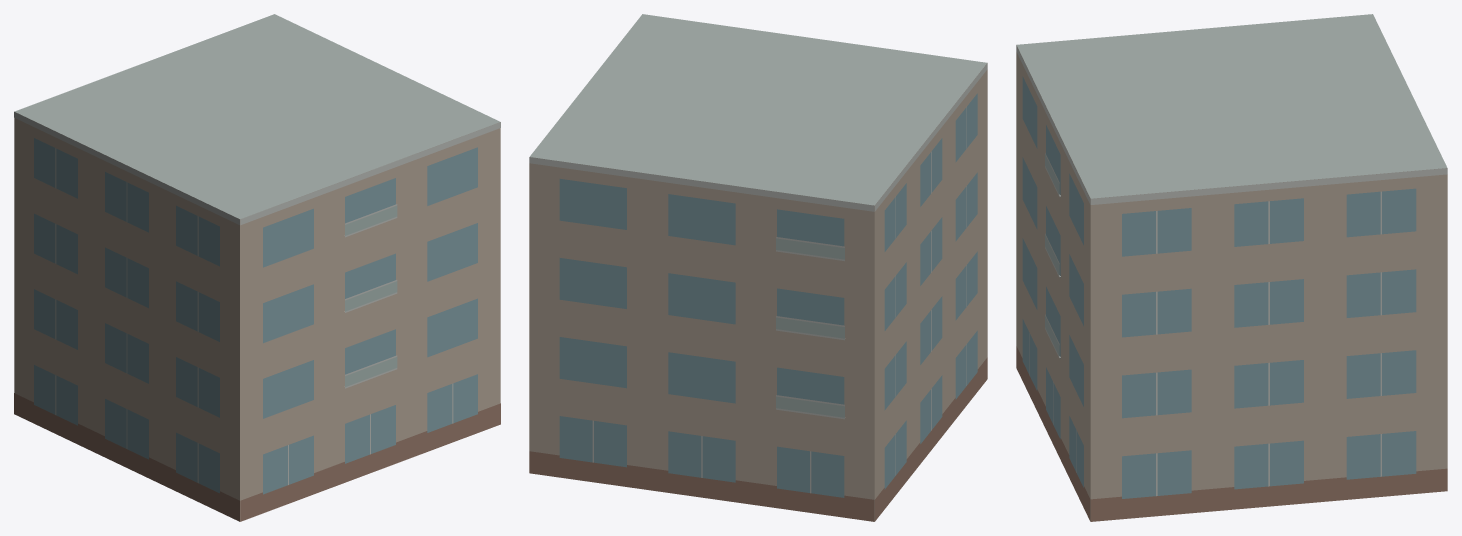
File: residential-b69ac2b3-1a40-4a95-a305-90572455e58d.glb
The picture shows the model from 3 angles, left to right: view 1: azimuth 30°, elevation 25°; view 2: azimuth 150°, elevation 25°; view 3: azimuth 270°, elevation 25°; orthographic projection. The views are drawn at different scales.
Parts seen in each view (by area): view 1: residential-b69ac2b3-1a40-4a95-a305-90572455e58d.tmp; view 2: residential-b69ac2b3-1a40-4a95-a305-90572455e58d.tmp; view 3: residential-b69ac2b3-1a40-4a95-a305-90572455e58d.tmp.
Part boxes in pixels (x1,y1,x2,y2): residential-b69ac2b3-1a40-4a95-a305-90572455e58d.tmp: (14,14,500,521); residential-b69ac2b3-1a40-4a95-a305-90572455e58d.tmp: (529,14,987,521); residential-b69ac2b3-1a40-4a95-a305-90572455e58d.tmp: (1016,14,1447,521).
Size of the model in its own units: 14.96 by 12.2 by 14.76.
